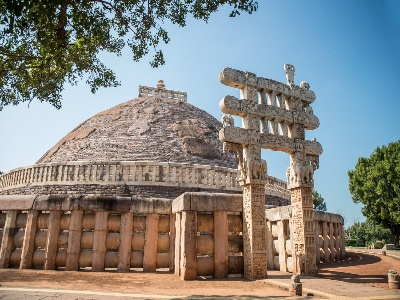torana: (218, 54, 333, 265)
